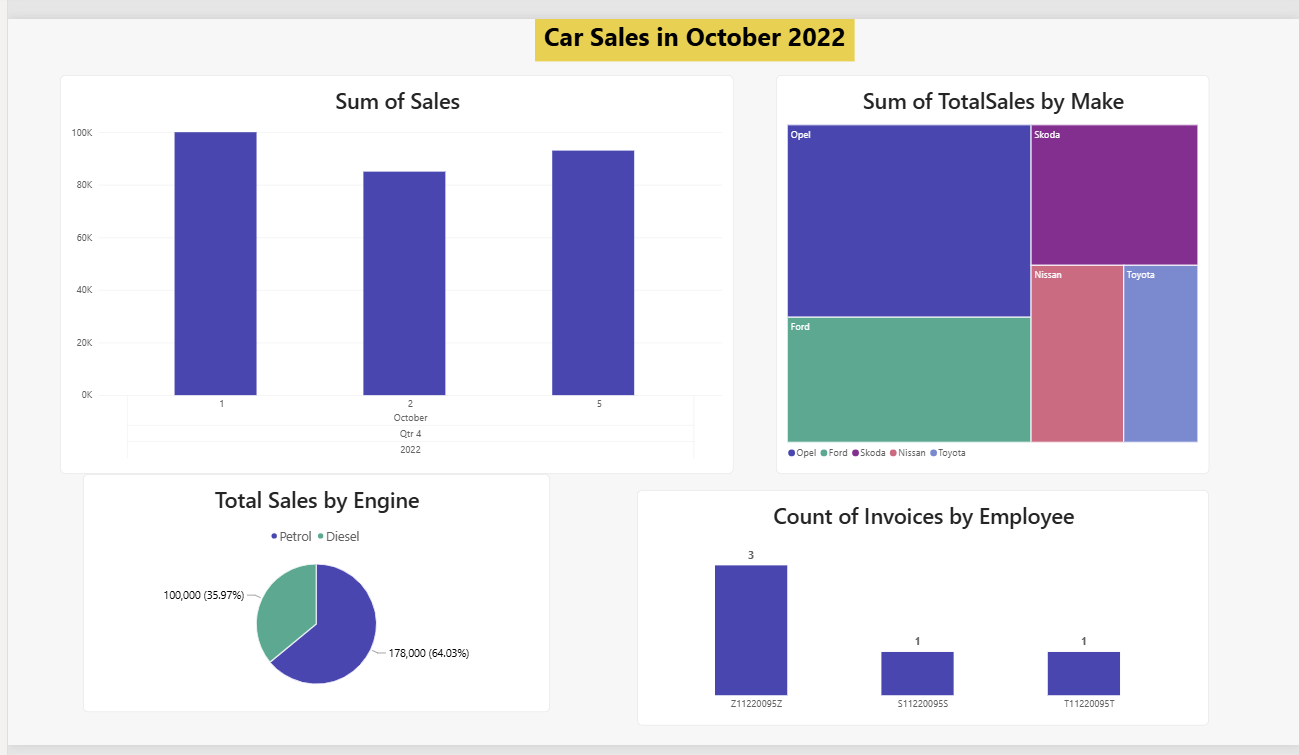

This screenshot's page, from the dashboard's own definition file:
{"tool":"powerbi","page":{"name":"Summary Dashboard","canvas":[1920,1080],"ordinal":0},"visuals":[{"type":"clusteredColumnChart","title":"Sum of Sales","fields":{"Category":["Calendar.Date.Variation.Date Hierarchy.Year","Calendar.Date.Variation.Date Hierarchy.Quarter","Calendar.Date.Variation.Date Hierarchy.Month","Calendar.Date.Variation.Date Hierarchy.Day"],"Y":["Sum(Invoice.TotalSales)"]},"box":[77.5,82.5,1001,592.7],"z":0},{"type":"treemap","fields":{"Group":["Car.Make"],"Values":["Sum(Invoice.TotalSales)"]},"box":[1141.1,83.7,644,592.7],"z":1000},{"type":"pieChart","title":"Total Sales by Engine","fields":{"Category":["Car.Engine"],"Y":["Sum(Invoice.TotalSales)"]},"box":[111,676.4,693.5,353.6],"z":2000},{"type":"clusteredColumnChart","title":"Count of Invoices by Employee","fields":{"Category":["SalesTeam.EmpPPSNo."],"Y":["CountNonNull(Invoice.InvoiceNo.)"]},"box":[935,700,850,350],"z":3000},{"type":"textbox","box":[782.5,0,475,62.5],"z":4000}]}

Visuals, with their boxes on the page's 1920x1080 design canvas (x1, y1, x2, y2). These are canvas units, not pixel positions in the 1299x755 screenshot, which may show the page scaled, cropped or inside an application window:
"Sum of Sales" clusteredColumnChart: Rect(78, 82, 1078, 675)
treemap - Car.Make x Sum(Invoice.TotalSales): Rect(1141, 84, 1785, 676)
"Total Sales by Engine" pieChart: Rect(111, 676, 804, 1030)
"Count of Invoices by Employee" clusteredColumnChart: Rect(935, 700, 1785, 1050)
textbox: Rect(782, 0, 1258, 62)
